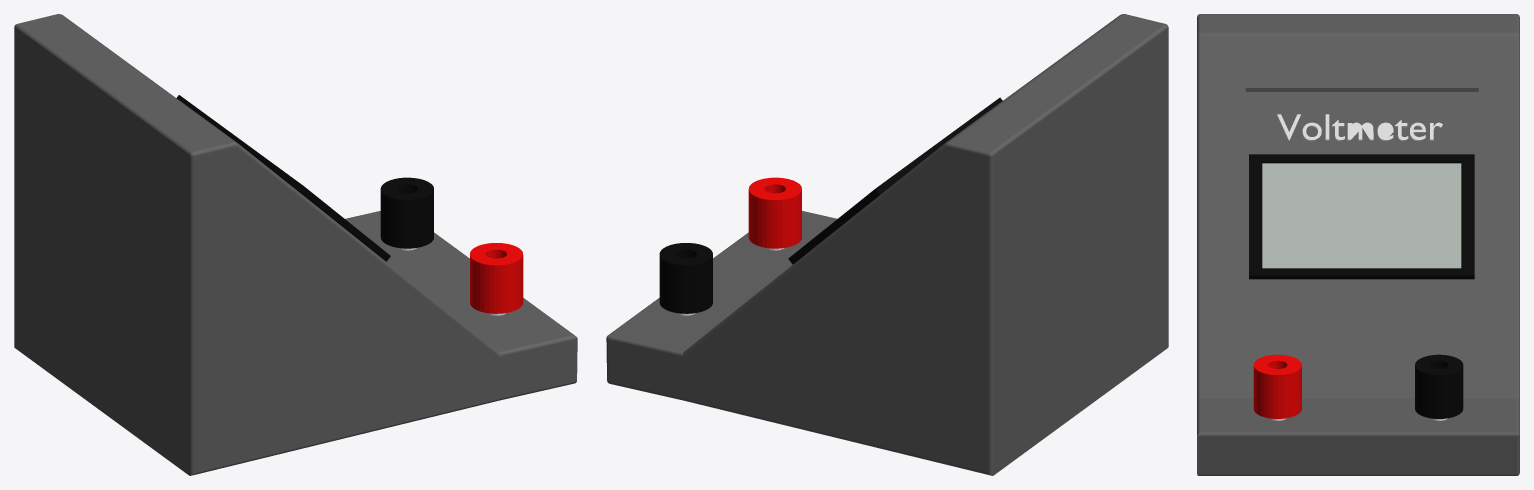
The model's file is VoltmeterNew.fbx.
3 renders of one model, left to right at view 1: azimuth 30°, elevation 25°; view 2: azimuth 150°, elevation 25°; view 3: azimuth 270°, elevation 25°, orthographic. The views are drawn at different scales.
Parts seen in each view (by area): view 1: Body, Negative, positive, frame; view 2: Body, positive, Negative, frame; view 3: Body, Plane, frame, Negative, positive, Text.
Boxes of the visible parts, box(x1,y1,x2,y2) form: Body: box(14, 14, 577, 475); Negative: box(380, 177, 433, 248); positive: box(470, 243, 523, 313); frame: box(176, 95, 390, 261); Body: box(606, 14, 1168, 475); positive: box(748, 177, 801, 248); Negative: box(659, 243, 712, 313); frame: box(788, 97, 1002, 264); Body: box(1197, 14, 1519, 475); Plane: box(1262, 163, 1461, 268); frame: box(1249, 154, 1474, 279); Negative: box(1415, 354, 1463, 418); positive: box(1253, 354, 1301, 418); Text: box(1277, 114, 1442, 141).
Size of the model in its own units: 2.5 by 2.01 by 2.
